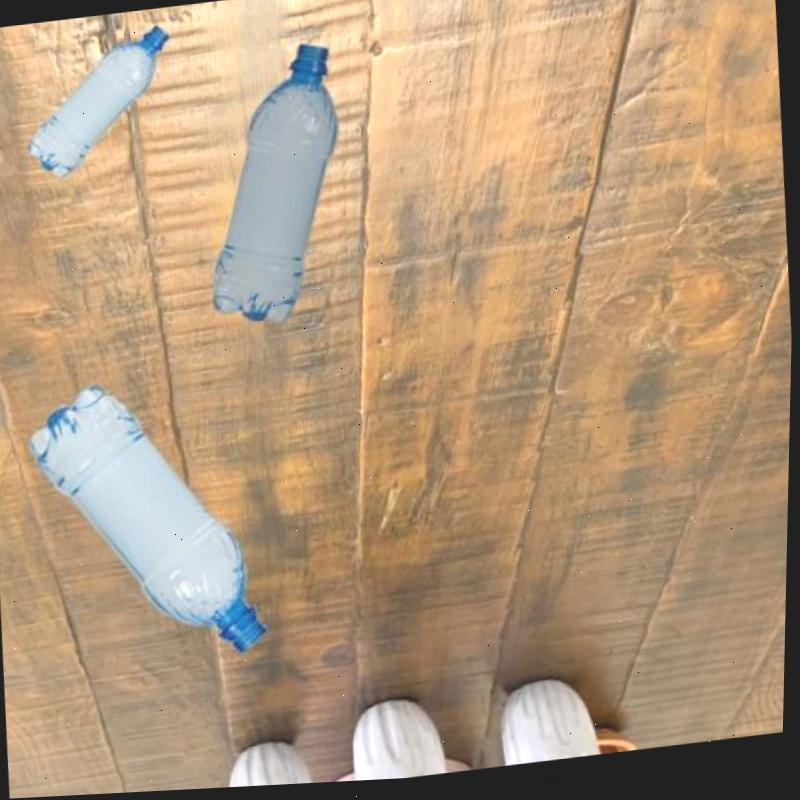botella: (21, 365, 277, 682), (195, 42, 355, 333), (19, 24, 180, 182)
